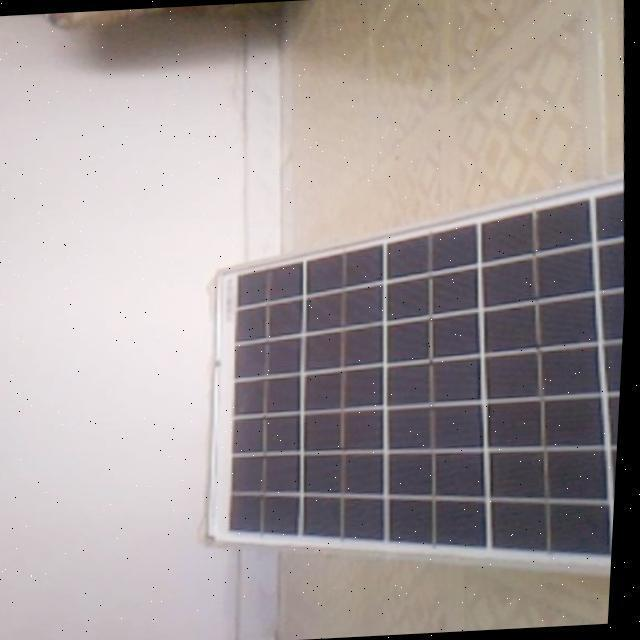Normal Solar Panel: (187, 168, 634, 599)
